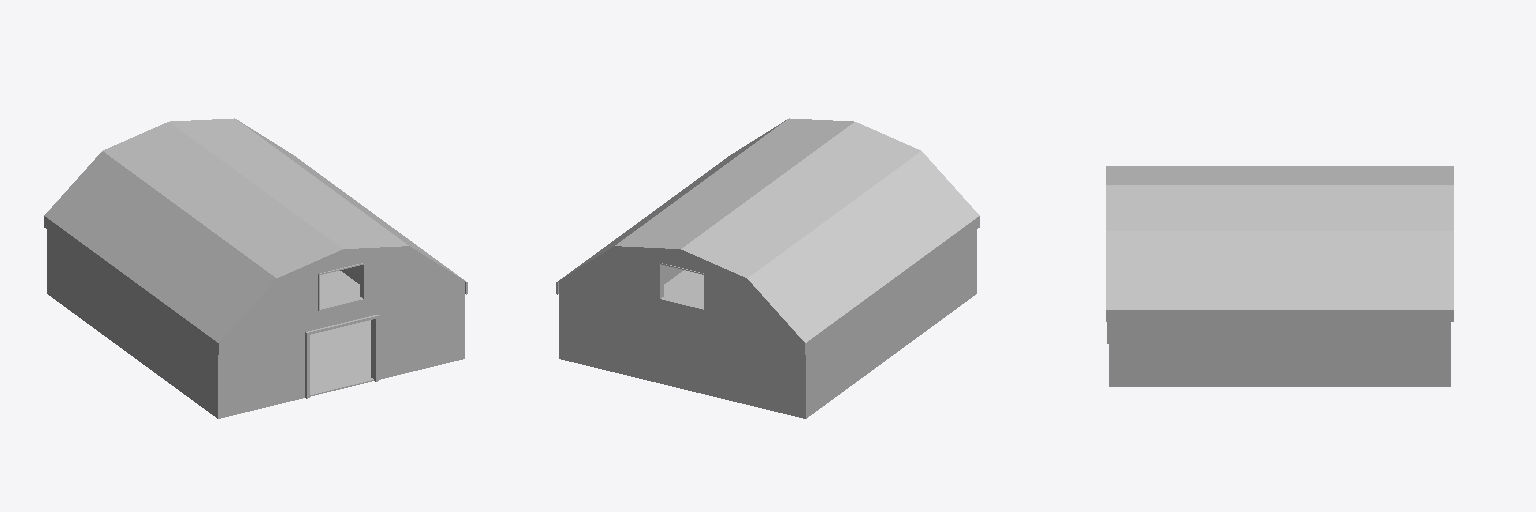
The model's file is barn_OLD.obj.
3 views of the same model, side by side, from view 1: azimuth 30°, elevation 25°; view 2: azimuth 150°, elevation 25°; view 3: azimuth 270°, elevation 25° (orthographic).
Visible parts, largest first — view 1: Barn_Cube; view 2: Barn_Cube; view 3: Barn_Cube.
Part boxes in pixels (x1,y1,x2,y2): Barn_Cube: (44,118,467,418); Barn_Cube: (556,118,979,418); Barn_Cube: (1106,166,1453,386).
Bounding box in the file's own units: 2.02 × 1.1 × 2.45.